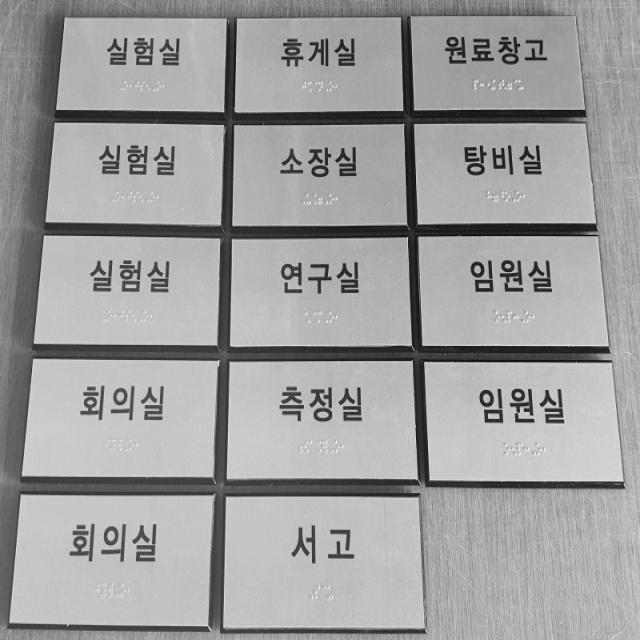braiile: (518, 78, 525, 90), (156, 80, 162, 92), (492, 190, 498, 202), (516, 190, 522, 202), (522, 190, 528, 202), (499, 190, 504, 203), (134, 80, 140, 90), (162, 80, 167, 92), (474, 80, 479, 92), (485, 79, 490, 91), (491, 79, 496, 91), (507, 80, 513, 90), (505, 190, 510, 202), (118, 80, 123, 91), (129, 80, 134, 91), (140, 80, 145, 91), (307, 81, 312, 92), (313, 81, 318, 92), (318, 81, 323, 92), (324, 81, 329, 92), (329, 81, 334, 92), (487, 191, 492, 202), (151, 81, 156, 91), (497, 80, 502, 90), (502, 80, 507, 90), (513, 80, 518, 90), (146, 80, 150, 92), (302, 81, 306, 93), (480, 79, 484, 91), (124, 80, 128, 91), (335, 81, 339, 92), (512, 191, 516, 202)
